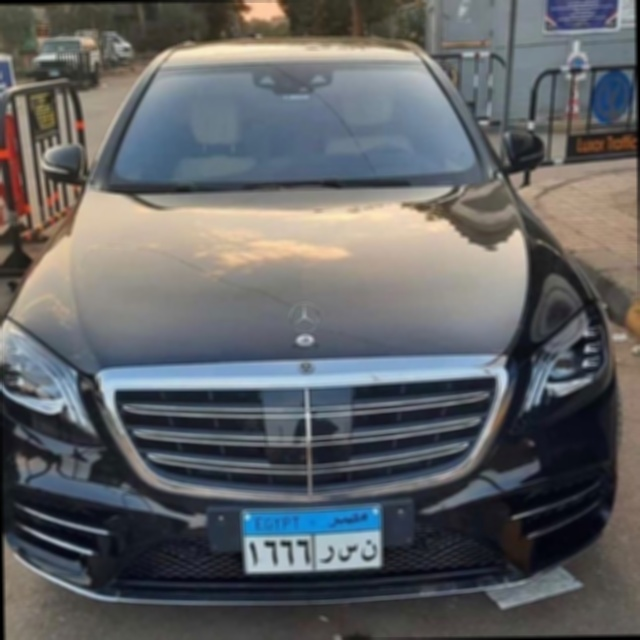License Plate: (240, 503, 388, 581)
